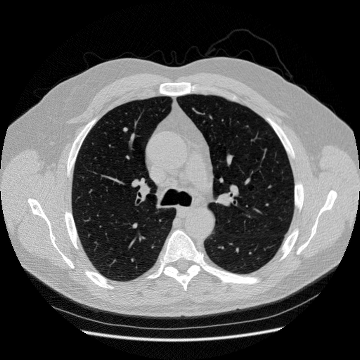nodule: (122, 126, 128, 132)
